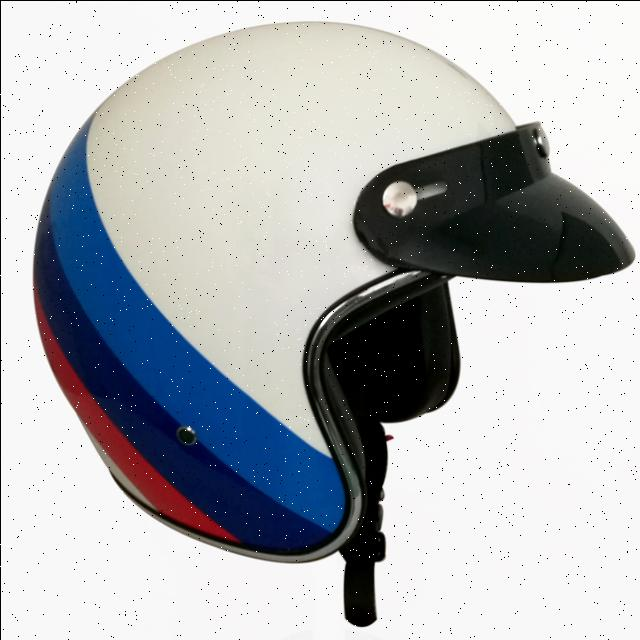Helmet: (31, 19, 634, 626)
